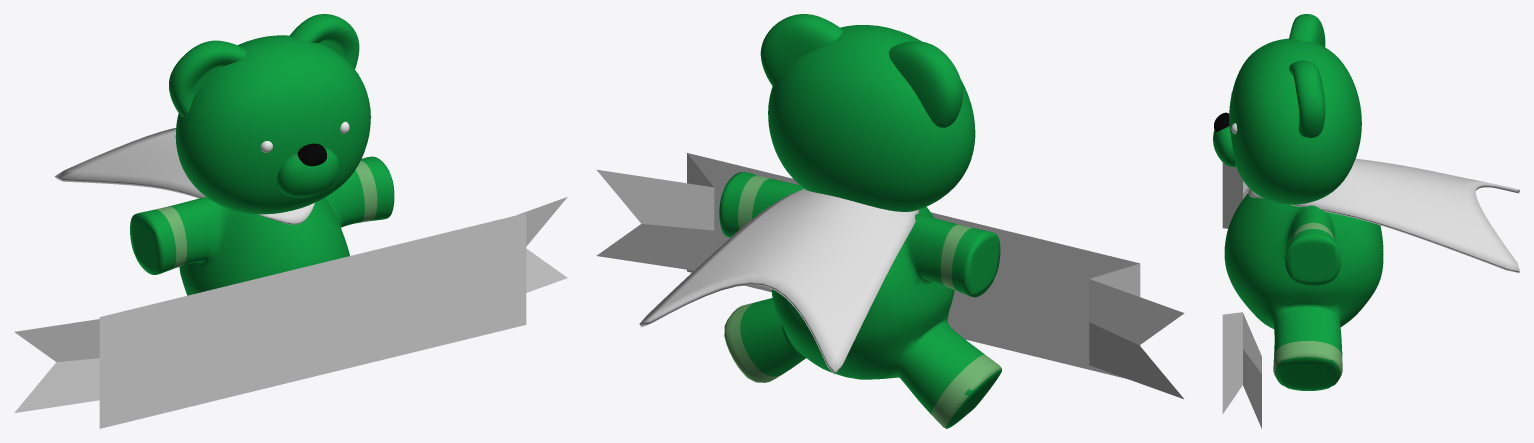
Rendered from TedSittingEyes.fbx.
3 views of the same model, side by side, from view 1: azimuth 30°, elevation 25°; view 2: azimuth 150°, elevation 25°; view 3: azimuth 270°, elevation 25° (orthographic). The views are drawn at different scales.
Visible parts, largest first — view 1: Plane, Ted.001, Ted, Ted_Cape; view 2: Ted.001, Plane, Ted, Ted_Cape; view 3: Ted, Ted.001, Ted_Cape, Plane.
Part boxes in pixels (left/top/right/bottom): Plane: left=14, top=197, right=567, bottom=428; Ted.001: left=169, top=14, right=370, bottom=214; Ted: left=130, top=156, right=394, bottom=295; Ted_Cape: left=55, top=128, right=314, bottom=224; Ted.001: left=760, top=14, right=975, bottom=211; Plane: left=596, top=153, right=1184, bottom=398; Ted: left=719, top=172, right=1001, bottom=428; Ted_Cape: left=639, top=188, right=919, bottom=374; Ted: left=1224, top=193, right=1383, bottom=390; Ted.001: left=1213, top=14, right=1361, bottom=204; Ted_Cape: left=1247, top=158, right=1519, bottom=272; Plane: left=1222, top=162, right=1261, bottom=428.
Size of the model in its own units: 802 by 481 by 429.
